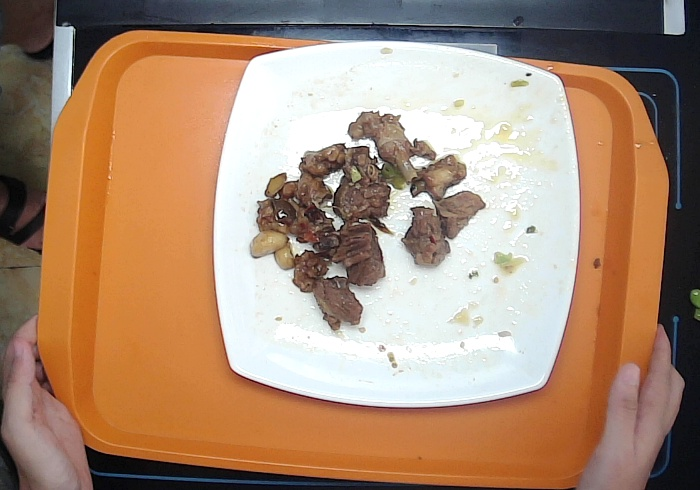ZNLD-Bai_Fang_Pan: (210, 38, 582, 410)
